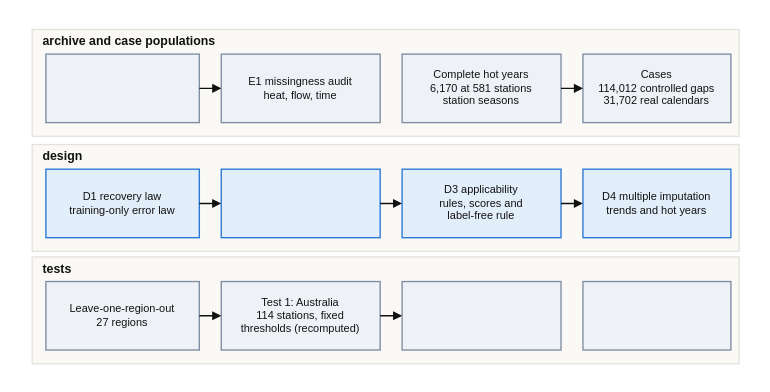
Some shapes in this 770 by 392 pixel diagram are drawn without their labels. The shapes that lost their labels are listed below. From the top down, each one's box as (x1, y1, x2, y2) in pixels, then its label:
(45, 53, 199, 123): Opened archive 600 stations 12,064 station-years
(220, 168, 380, 238): D2 target-aware estimator D2*, intervals calibrated by difficulty
(401, 280, 561, 350): Test 2: new USGS 70 stations, label-free rule (recomputed)
(582, 280, 731, 350): Downstream, archive, flow 42 long records, 3,876 real years; 255 gauges
